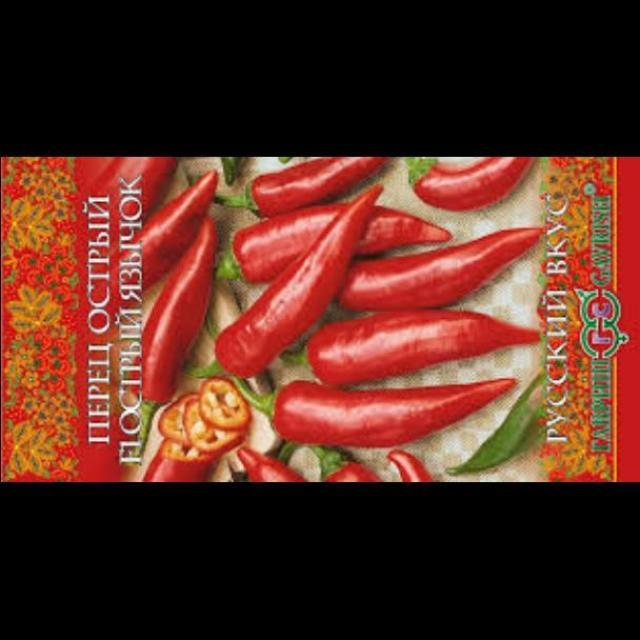hot pepper: (182, 176, 393, 400), (290, 296, 550, 396), (232, 372, 520, 462), (114, 223, 228, 438), (306, 222, 557, 316), (222, 204, 456, 299), (101, 171, 215, 311), (444, 372, 564, 476), (134, 380, 245, 483), (226, 158, 397, 224), (398, 158, 558, 227), (218, 441, 310, 483), (296, 439, 376, 483), (374, 447, 434, 484)
